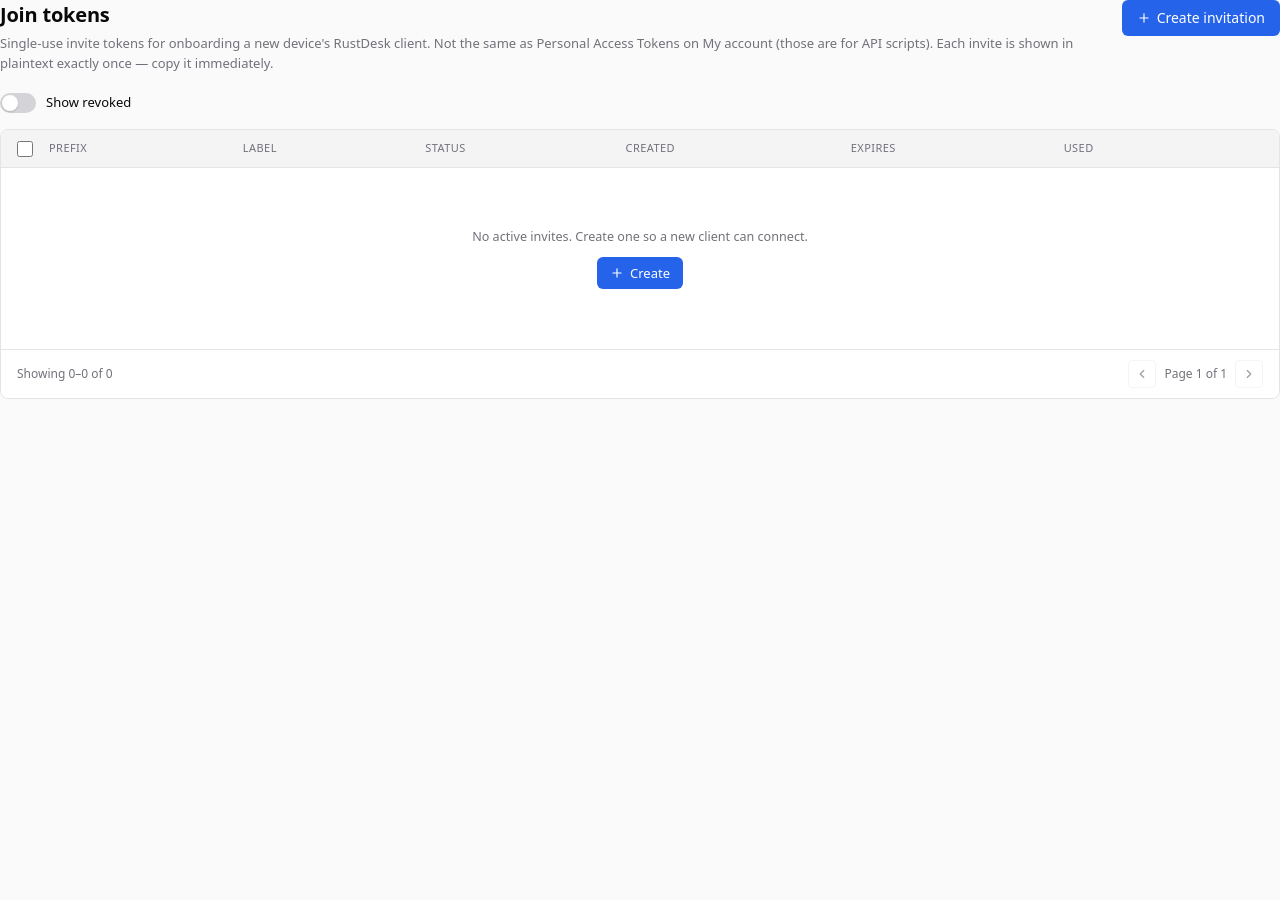
<JoinTokensPage /> › cancelling the Create dialog shows a "No invitation created" toast
The image size is (1280, 900).
Click the button "Create invitation" at point(1201, 18), box [1122,0,1279,36]
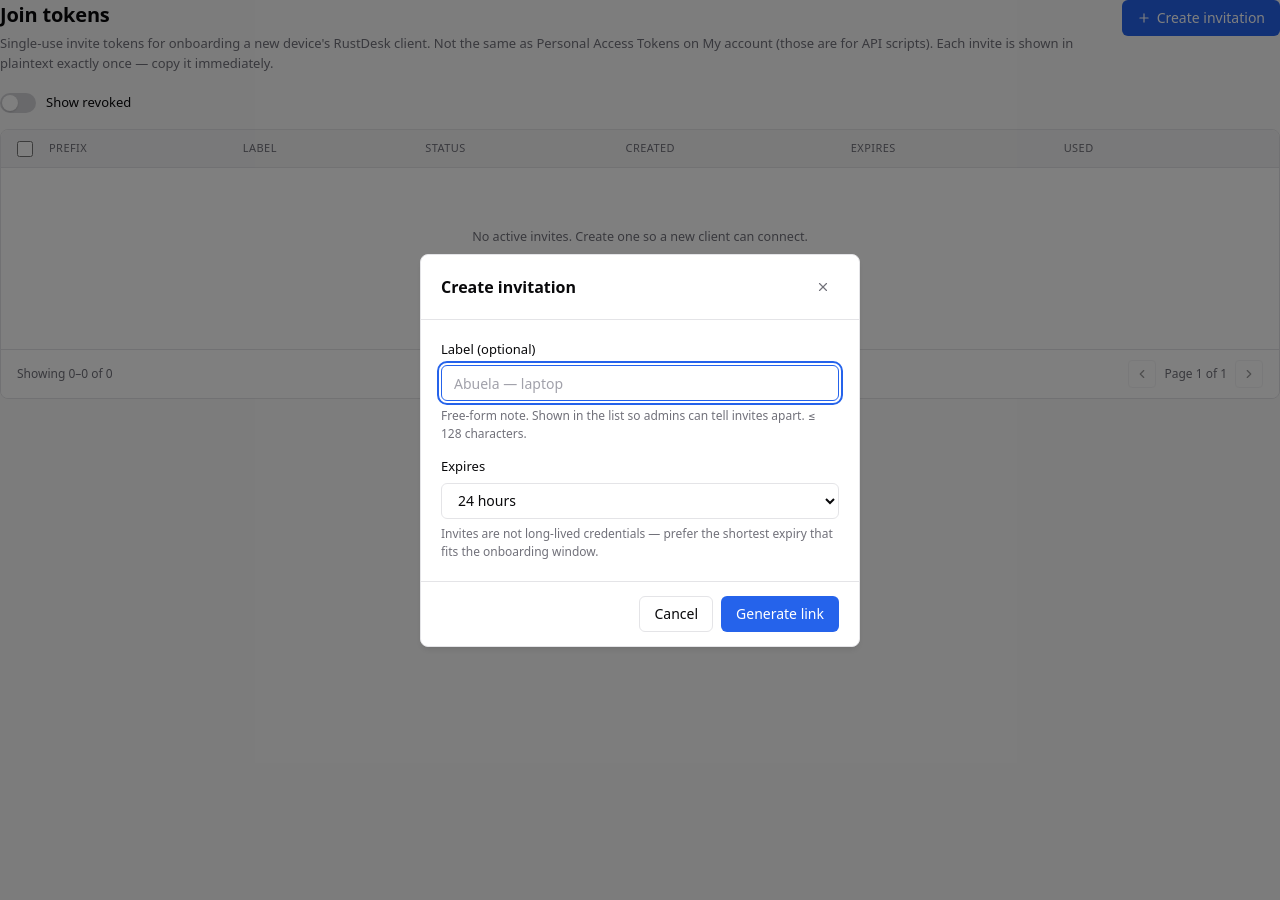
Click the button "Cancel" at point(676, 614), box [640,596,713,632]
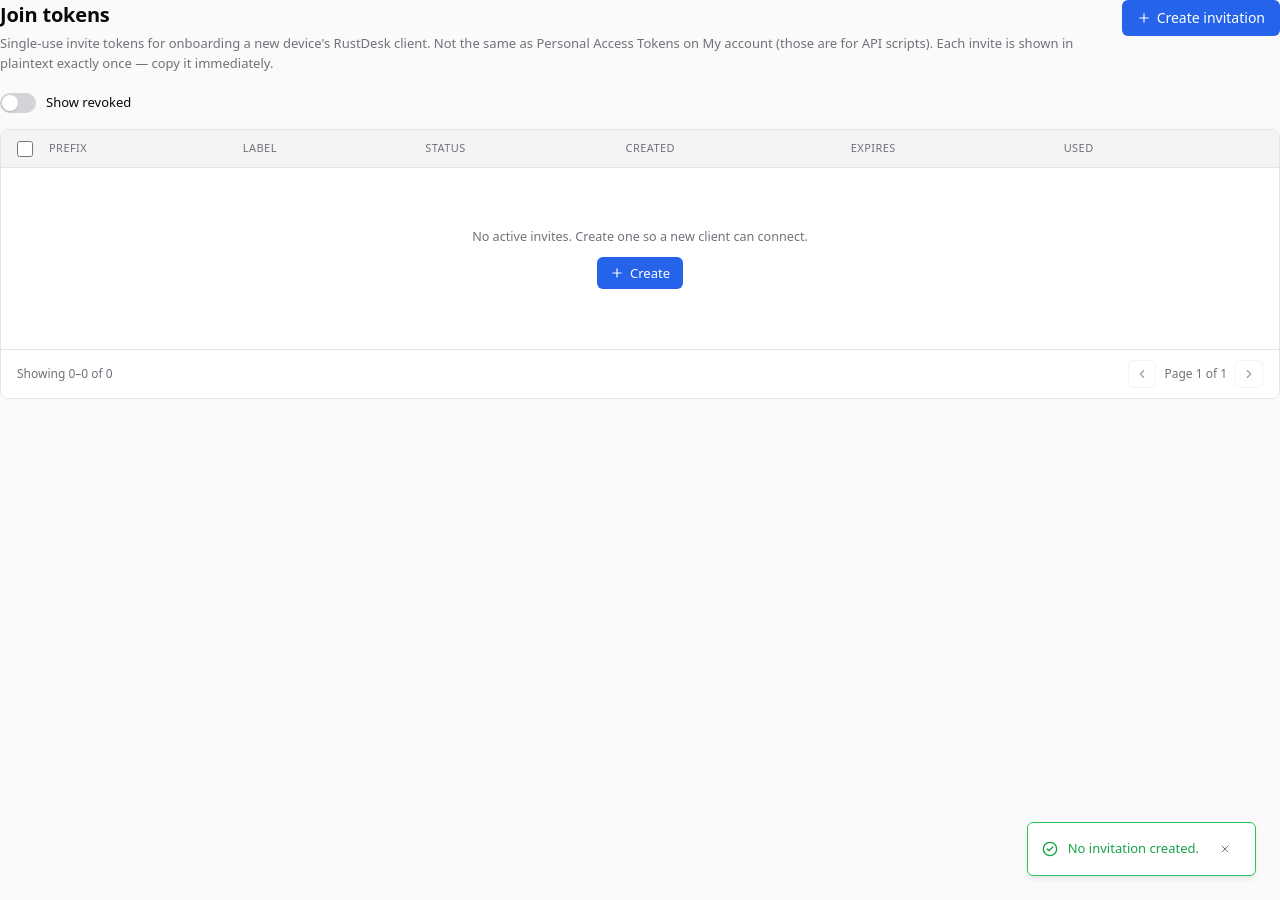
Expected: the text "No invitation created." is shown, [1068,839,1199,859]
